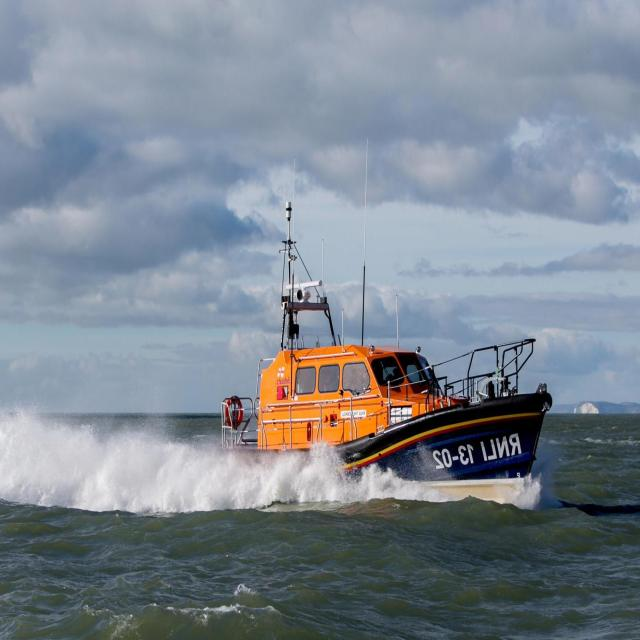houseboat: (214, 218, 556, 507)
